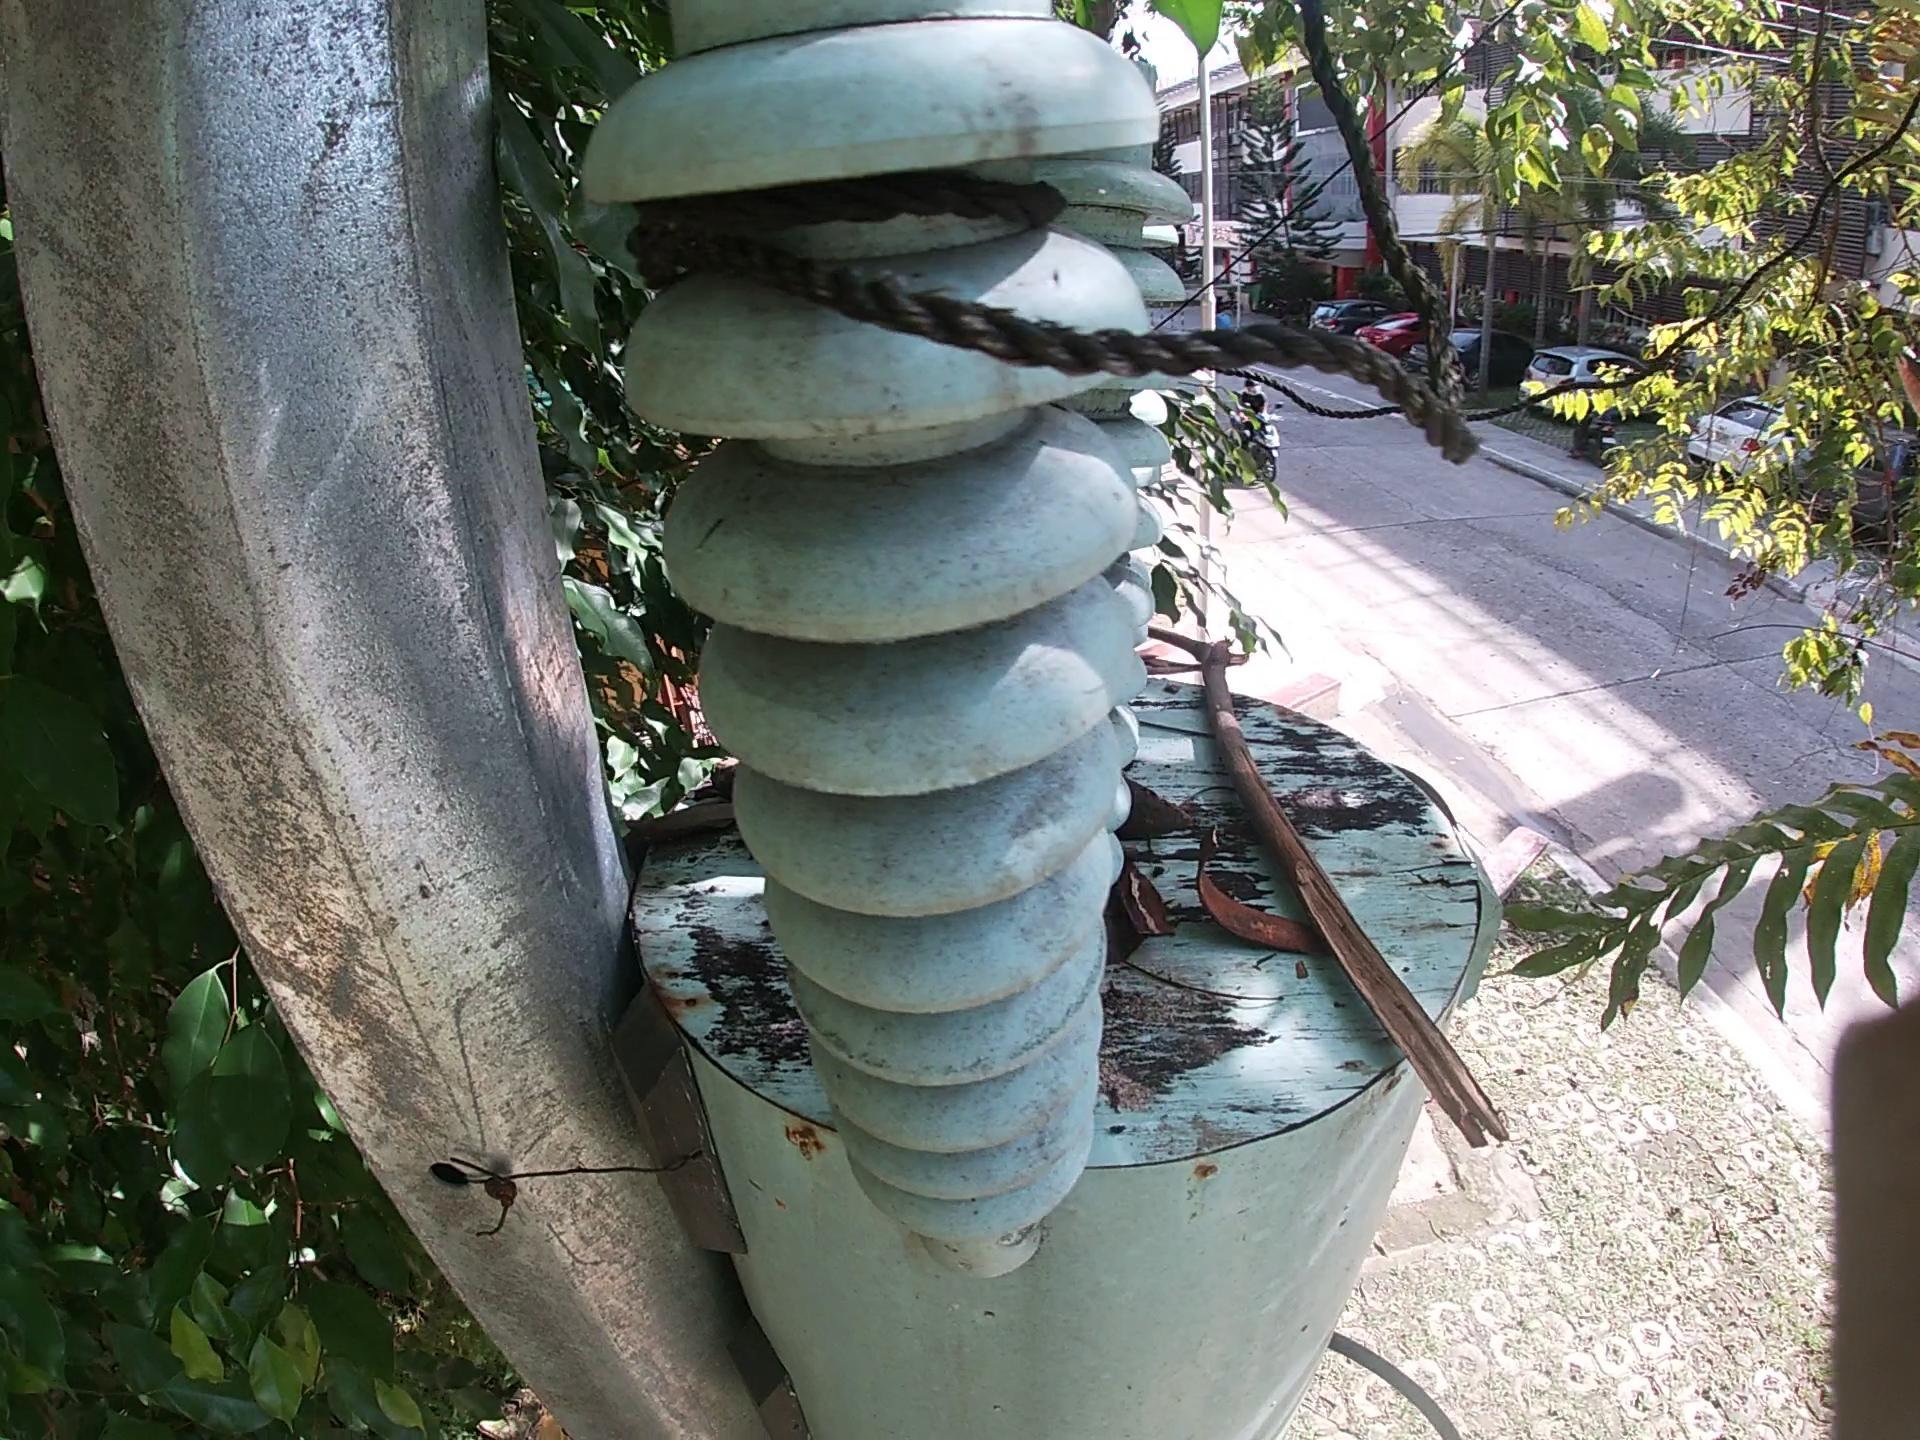mahogany fruit: (1191, 836, 1317, 977), (1123, 771, 1178, 856)
tree branch: (1149, 625, 1531, 1165), (1141, 711, 1370, 764), (1128, 956, 1302, 1023), (1131, 855, 1167, 942), (691, 762, 736, 784)
